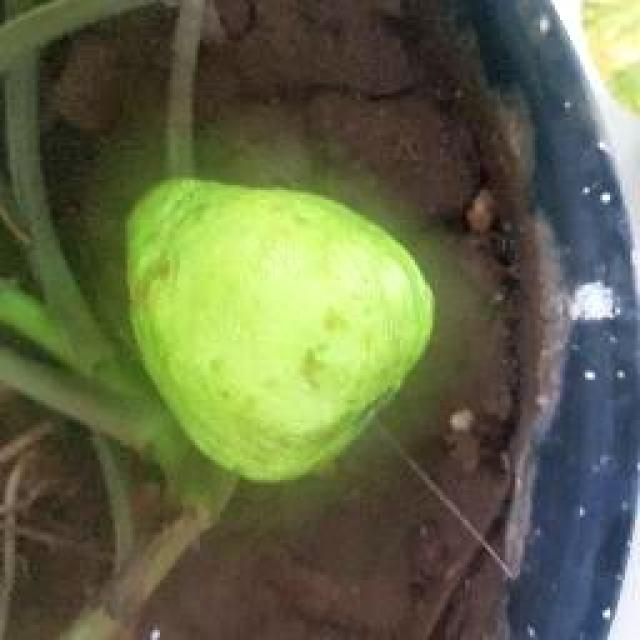Good_Guava: (118, 175, 440, 488)
